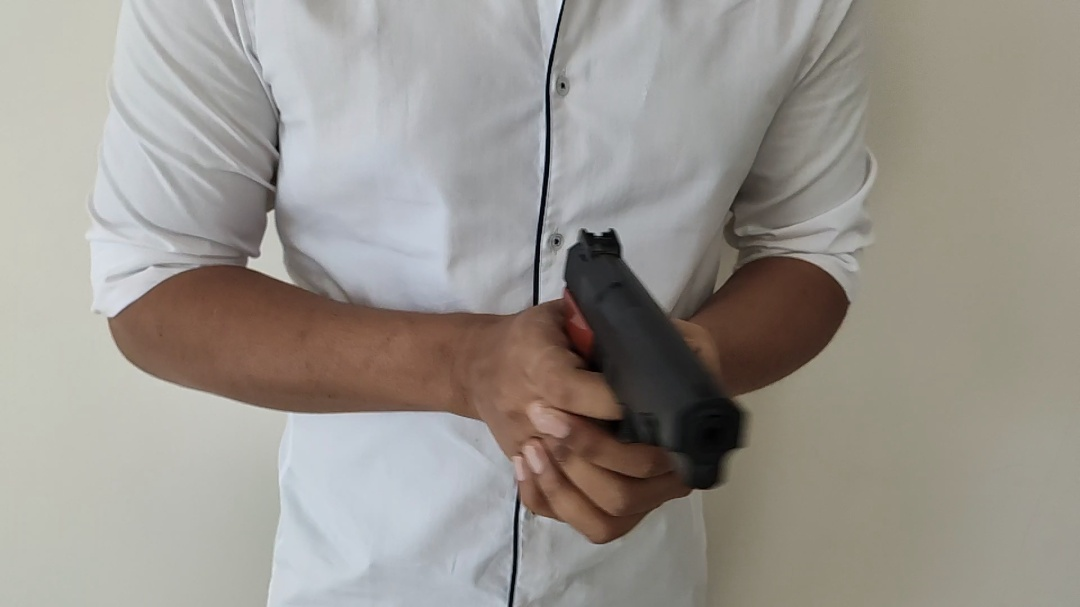gun: (564, 227, 746, 492)
